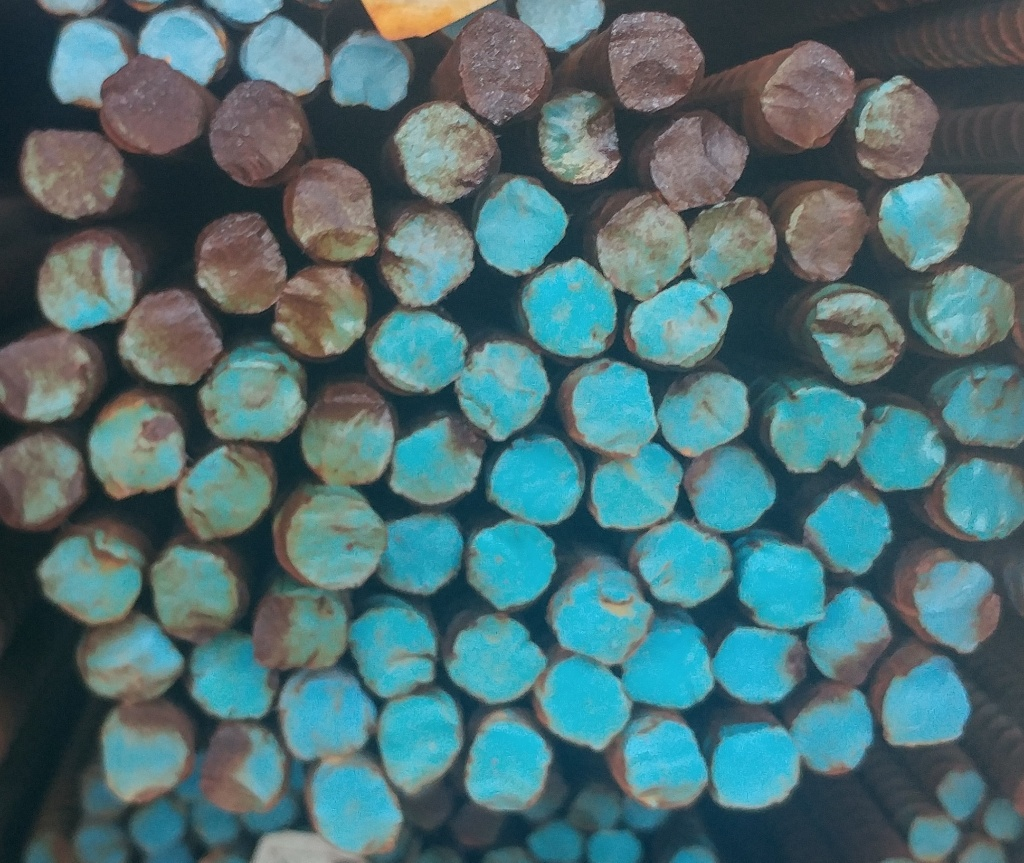dipstick: (749, 33, 870, 157), (274, 483, 385, 595), (599, 10, 714, 114), (388, 99, 505, 201), (441, 606, 553, 711), (276, 149, 378, 264), (27, 527, 146, 625), (190, 204, 291, 317), (369, 200, 478, 304), (20, 120, 128, 224), (853, 73, 949, 188), (175, 431, 280, 536), (801, 279, 907, 383), (511, 254, 619, 356), (115, 285, 225, 385), (456, 9, 551, 124), (907, 264, 1022, 359), (149, 538, 251, 645), (635, 114, 753, 206), (276, 662, 383, 763), (464, 700, 561, 811), (544, 559, 649, 661), (97, 56, 207, 153), (871, 176, 984, 270), (33, 231, 137, 333), (95, 699, 202, 798), (89, 385, 182, 497), (596, 190, 695, 295), (206, 76, 304, 182), (456, 333, 554, 439), (918, 445, 1024, 543), (779, 176, 875, 284), (622, 277, 736, 367), (299, 742, 409, 835), (359, 307, 477, 393), (70, 616, 189, 701), (203, 339, 303, 440), (900, 557, 1007, 651), (487, 425, 586, 525), (387, 406, 486, 505), (1, 323, 97, 425), (373, 691, 468, 794), (768, 379, 868, 476), (277, 263, 377, 360), (300, 378, 392, 483), (247, 586, 356, 674), (930, 346, 1024, 447), (183, 625, 281, 721), (344, 598, 437, 698), (882, 653, 975, 753), (657, 367, 761, 456), (466, 515, 562, 611), (635, 520, 737, 610), (801, 584, 895, 681), (740, 531, 833, 629), (563, 358, 660, 451), (1, 426, 89, 528), (371, 505, 467, 598), (476, 175, 576, 263), (797, 483, 891, 576), (791, 688, 880, 784), (629, 614, 717, 711), (325, 25, 417, 116), (195, 716, 285, 807), (615, 712, 707, 800), (537, 654, 623, 748), (540, 89, 624, 185), (862, 401, 949, 491), (590, 440, 680, 526), (49, 15, 132, 108), (688, 444, 778, 529), (705, 720, 799, 801), (712, 626, 812, 701), (691, 197, 776, 284), (132, 9, 234, 81), (242, 15, 336, 93), (450, 797, 510, 850), (401, 779, 457, 835), (124, 795, 183, 846), (241, 789, 298, 839), (521, 814, 578, 863), (79, 768, 131, 820), (938, 768, 986, 823), (906, 813, 962, 857), (581, 824, 638, 863), (569, 779, 616, 824), (621, 792, 671, 833), (77, 820, 138, 853), (984, 796, 1024, 843), (190, 800, 244, 828)
